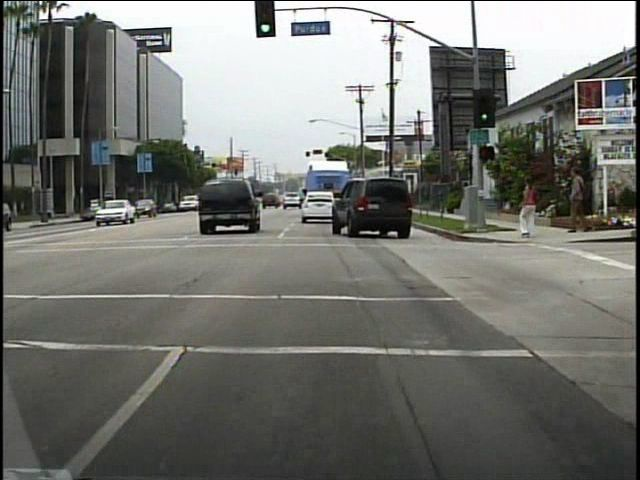person: (560, 161, 591, 238), (512, 173, 545, 243)
